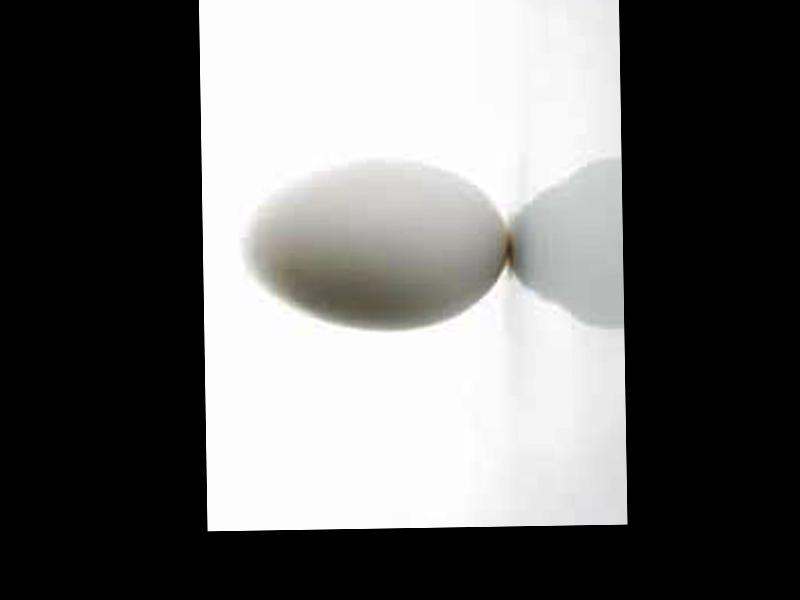Eggs: (243, 163, 509, 332)
